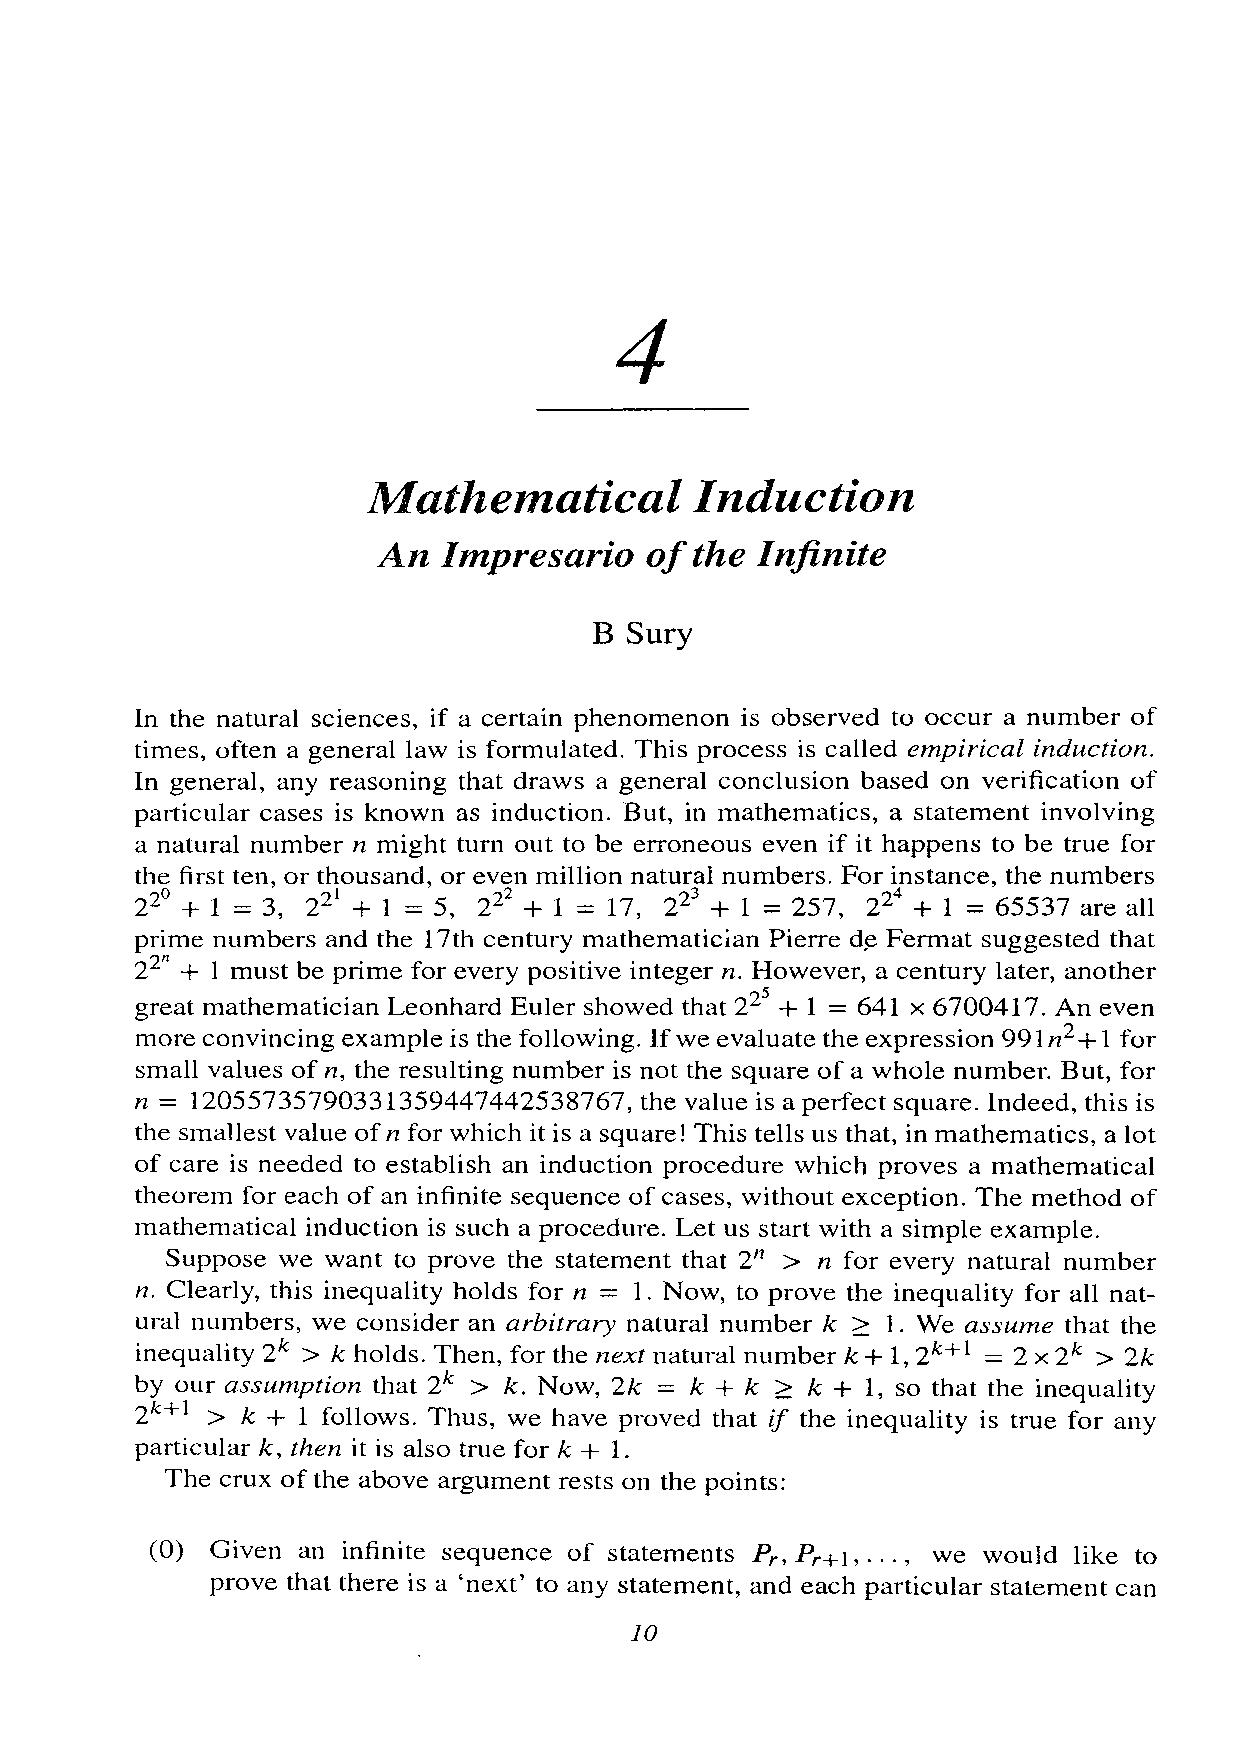chapter: (362, 464, 915, 577)
content: (132, 703, 1159, 1605)
content_pagenumber: (629, 1620, 662, 1647)
